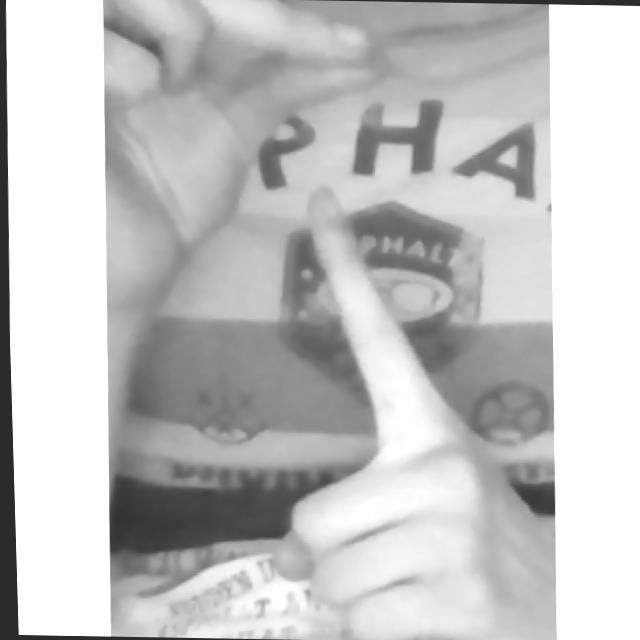I-: (91, 0, 567, 640)
